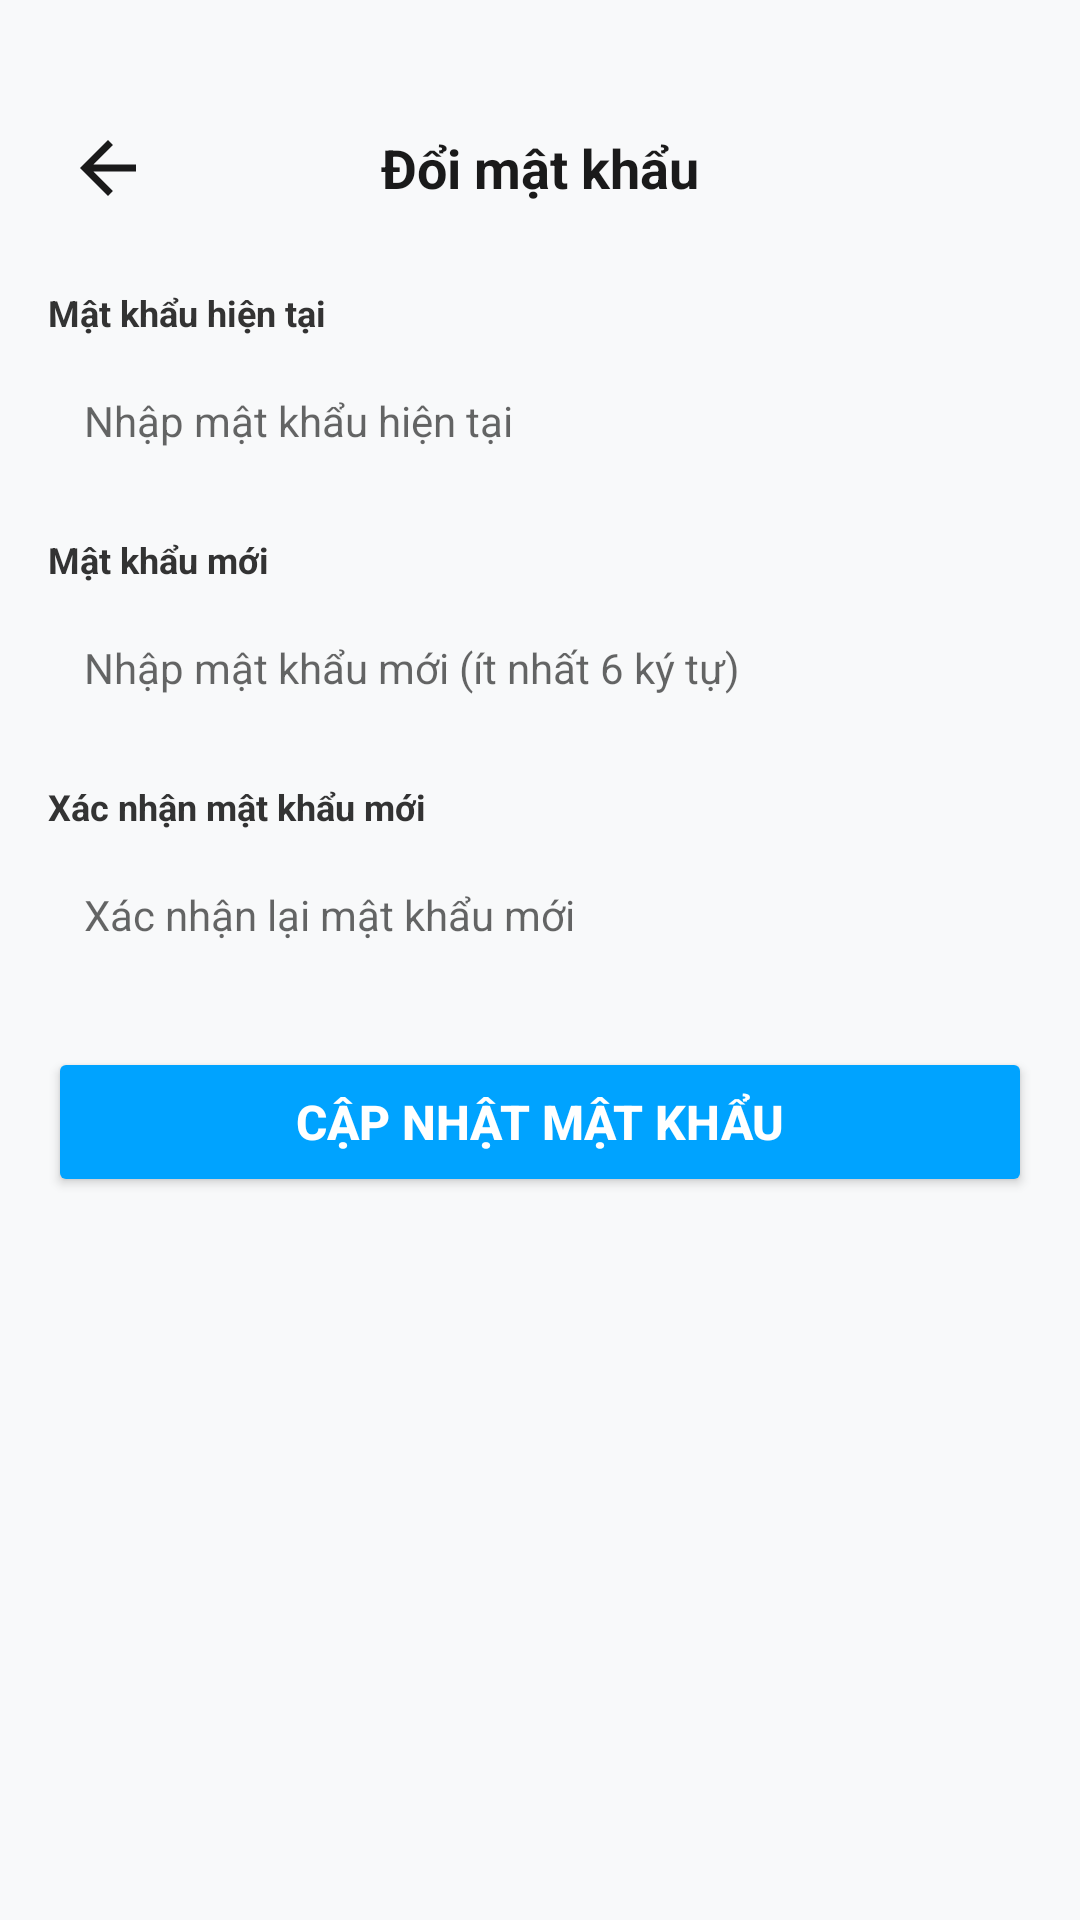

Where icons sit on this 1080px x 1920px app screen, as (x1, y1, x2, y2):
arrow back: (80, 140, 136, 196)
